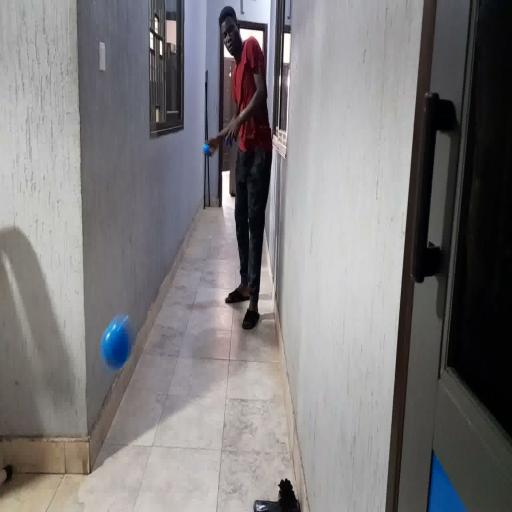plastic-ball: (100, 315, 132, 369)
